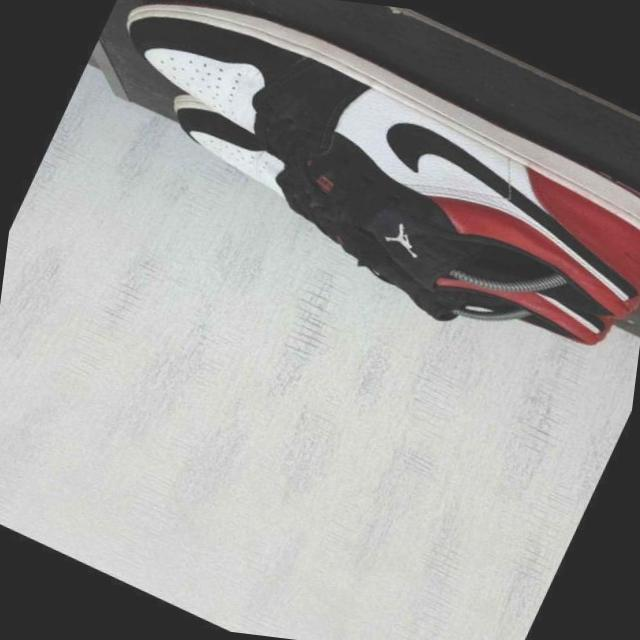nike_fake_jordan: (51, 0, 640, 379)
